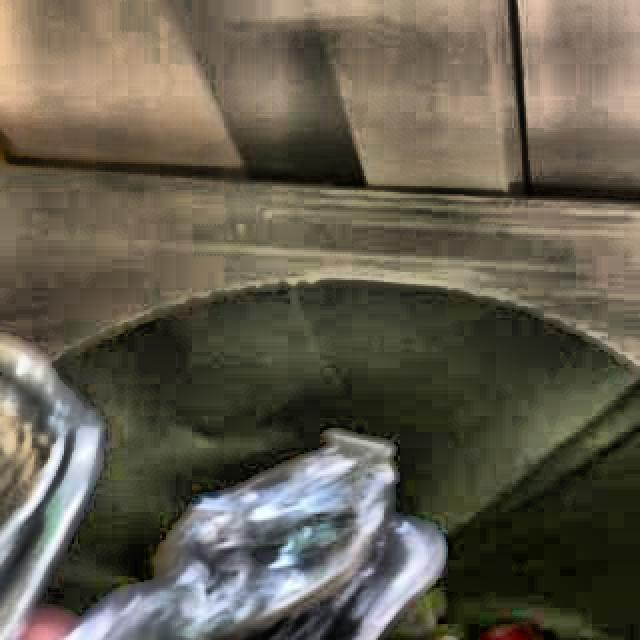metal: (67, 433, 442, 640)
